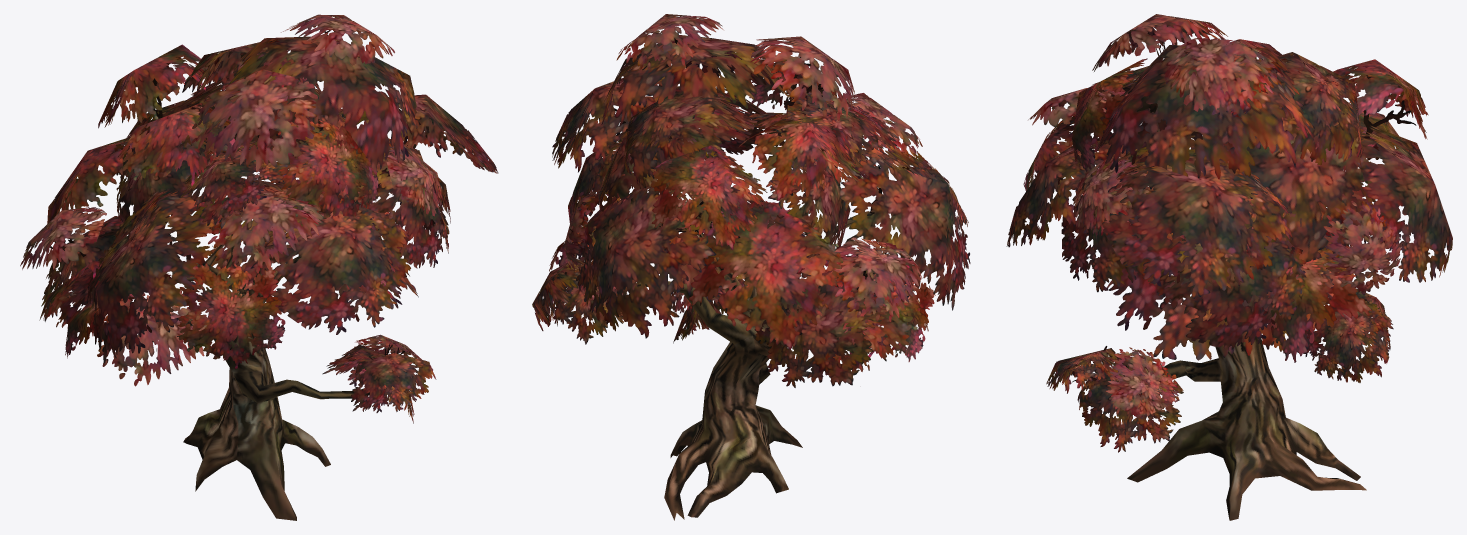
File: FOL_TreeCherryA.FBX
3 renders of one model, left to right at view 1: azimuth 30°, elevation 25°; view 2: azimuth 150°, elevation 25°; view 3: azimuth 270°, elevation 25°, orthographic. The views are drawn at different scales.
Parts seen in each view (by area): view 1: FOL_TreeCherryA; view 2: FOL_TreeCherryA; view 3: FOL_TreeCherryA.
Boxes of the visible parts, bbox=[...] form: FOL_TreeCherryA: bbox=[20, 14, 498, 520]; FOL_TreeCherryA: bbox=[532, 14, 970, 520]; FOL_TreeCherryA: bbox=[1006, 14, 1452, 520].
Size of the model in its own units: 4266 by 4469 by 3780.
Materials: 1 (1 with a texture image).
